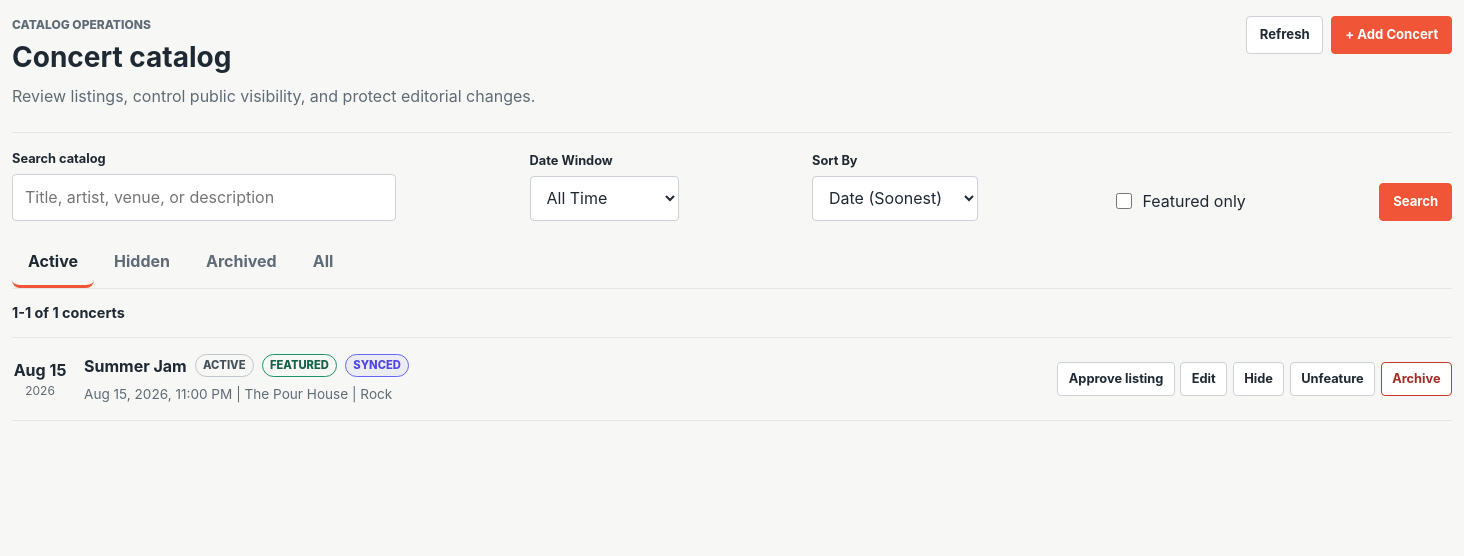
Test: AdminConcertsPage › hides a concert using the version returned by the API
This screenshot has width=1464, height=556.
What coordinates should you click on to do the following:
click the button "Hide"
I would click on:
 (1259, 379)
Its box is [1233, 362, 1284, 396].
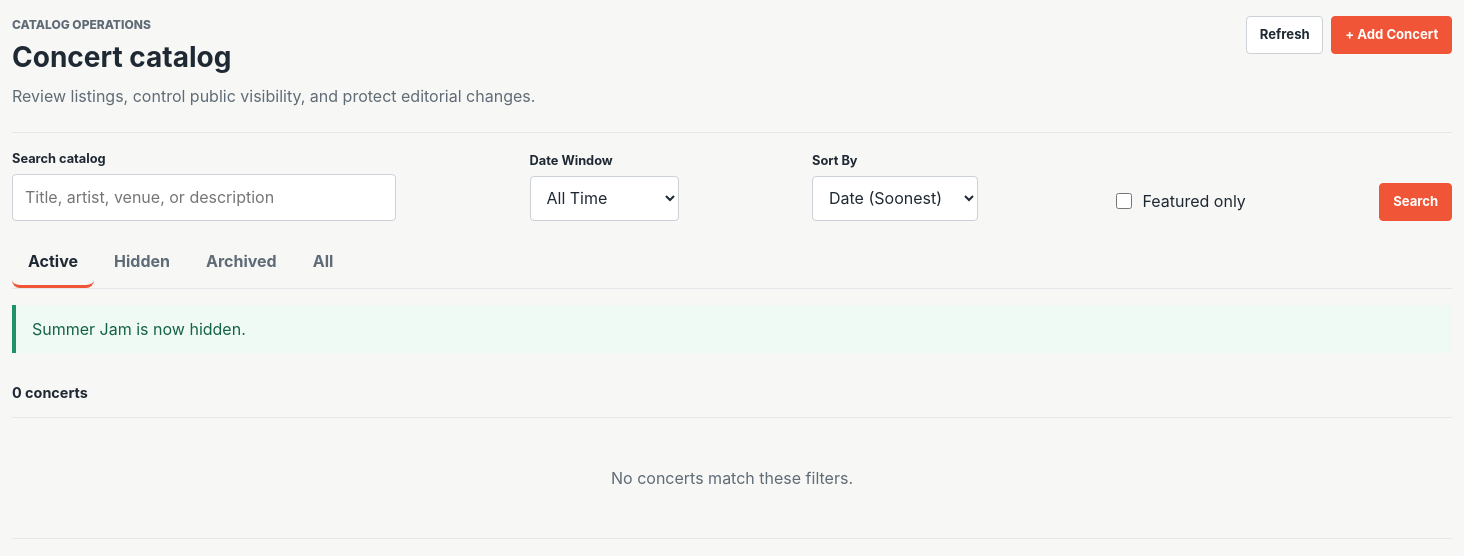
Now the text "Summer Jam is now hidden." is shown, box [12, 304, 1452, 352]
